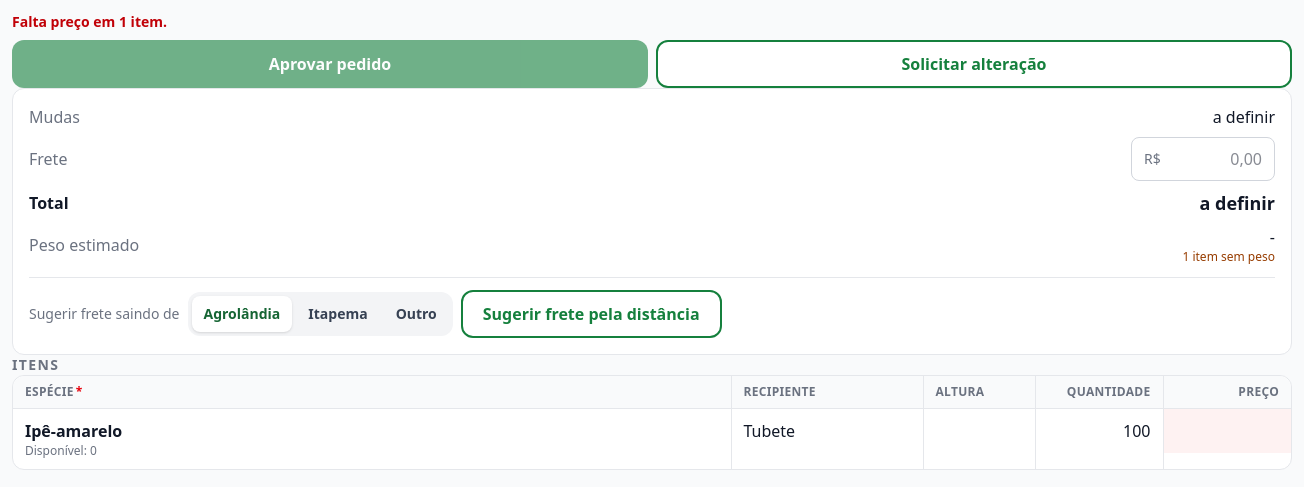
it: ItensDaFicha: a negociação grava ao digitar (RF-65) › o que falta para aprovar acompanha o que está digitado
expect the text "Falta preço em 1 item." is shown: met, box [12,12,167,31]
Type "8,00" into the field named "Preço do item 1" at (1227, 431), box [1164,409,1291,453]
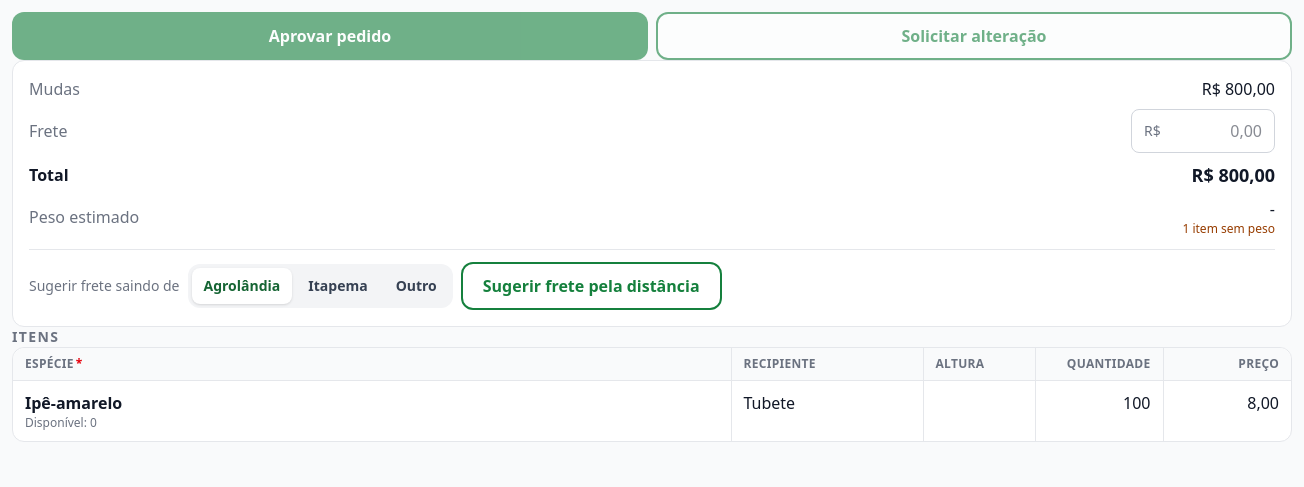
expect the text "Falta preço em 1 item." is gone: met
